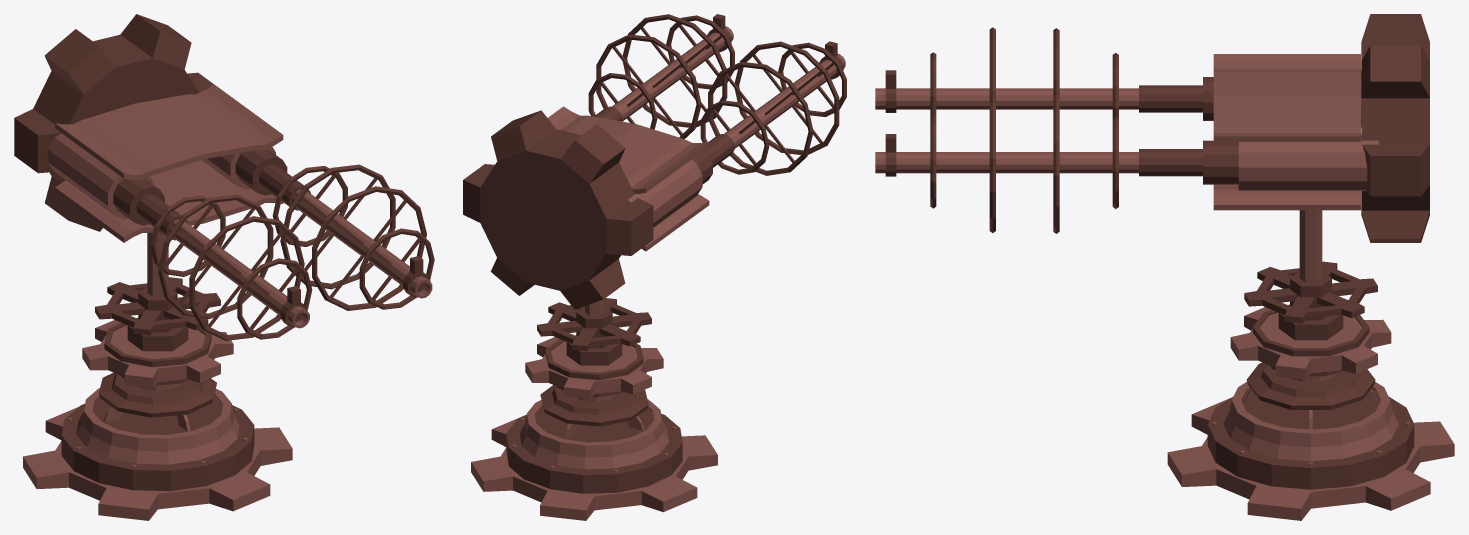
File: laser-doble.glb
The picture shows the model from 3 angles, left to right: view 1: azimuth 30°, elevation 25°; view 2: azimuth 150°, elevation 25°; view 3: azimuth 270°, elevation 25°; orthographic projection. The views are drawn at different scales.
Visible parts, largest first — view 1: Laser_Doble_Gun, Laser_Doble_Base, Laser_Doble_Mid; view 2: Laser_Doble_Gun, Laser_Doble_Base, Laser_Doble_Mid; view 3: Laser_Doble_Gun, Laser_Doble_Base, Laser_Doble_Mid.
Part boxes in pixels (x1,y1,x2,y2): Laser_Doble_Gun: (14,14,434,340); Laser_Doble_Base: (23,318,292,520); Laser_Doble_Mid: (95,231,220,351); Laser_Doble_Gun: (463,14,846,309); Laser_Doble_Base: (471,337,717,520); Laser_Doble_Mid: (537,298,651,365); Laser_Doble_Gun: (875,14,1429,242); Laser_Doble_Base: (1167,304,1454,520); Laser_Doble_Mid: (1244,210,1377,340).
Size of the model in its own units: 1.41 by 2.29 by 2.78.
